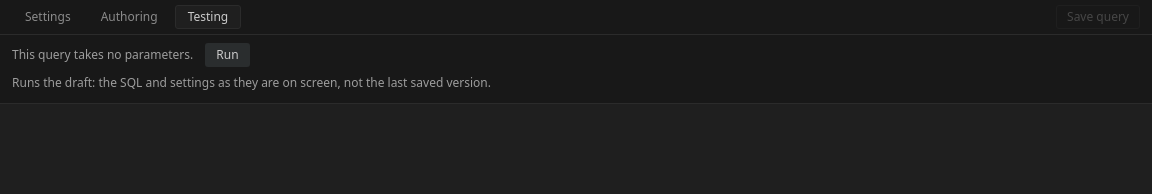
it: Testing › reports the cap when the server truncated the rows
Click the button "Run" at (227, 55), box [205,43,250,67]
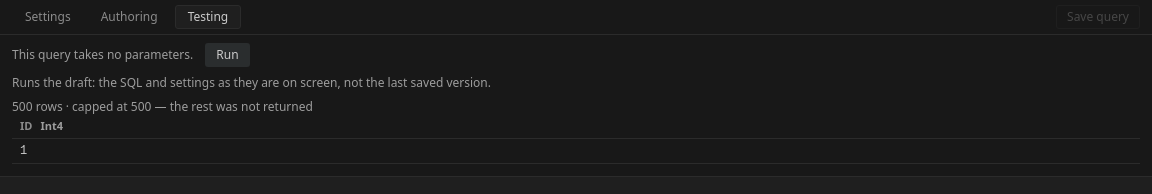
Now the text "500 rows · capped at 500 — the rest was not returned" is shown, box [12,98,313,115]
